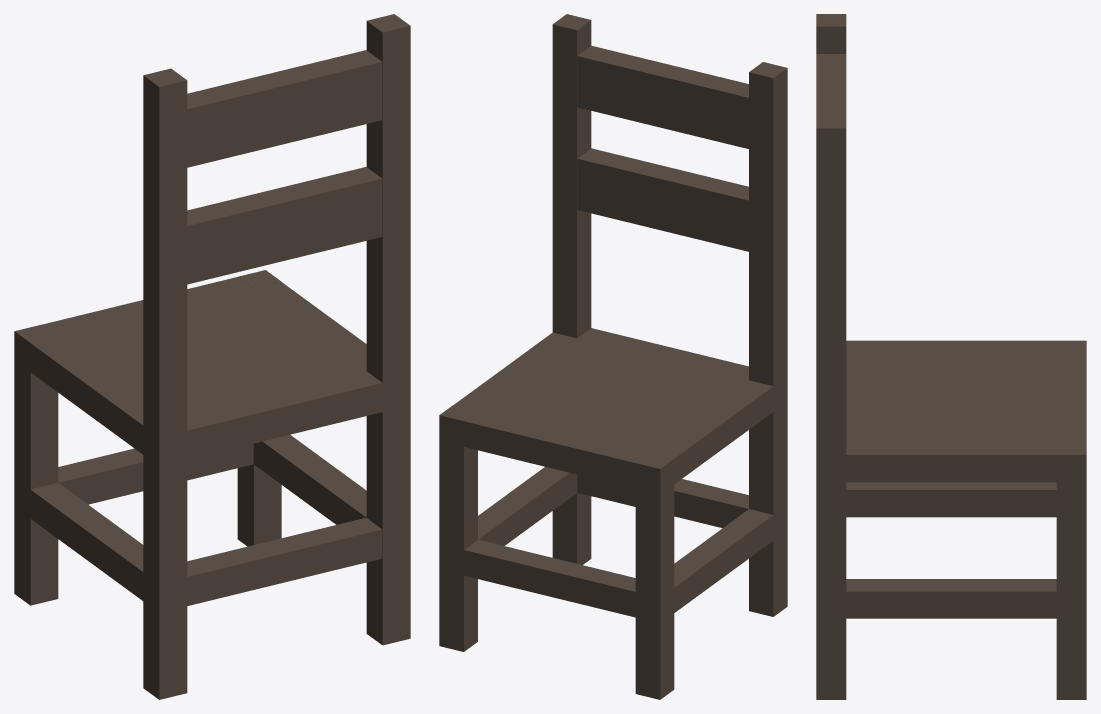
File: Chair.fbx
The picture shows the model from 3 angles, left to right: view 1: azimuth 30°, elevation 25°; view 2: azimuth 150°, elevation 25°; view 3: azimuth 270°, elevation 25°; orthographic projection. The views are drawn at different scales.
Parts seen in each view (by area): view 1: Chair2; view 2: Chair2; view 3: Chair2.
Boxes of the visible parts, <box> form: Chair2: <box>14,14,410,699</box>; Chair2: <box>439,14,787,699</box>; Chair2: <box>816,14,1086,699</box>.
Size of the model in its own units: 0.4504 by 1.05 by 0.45.
